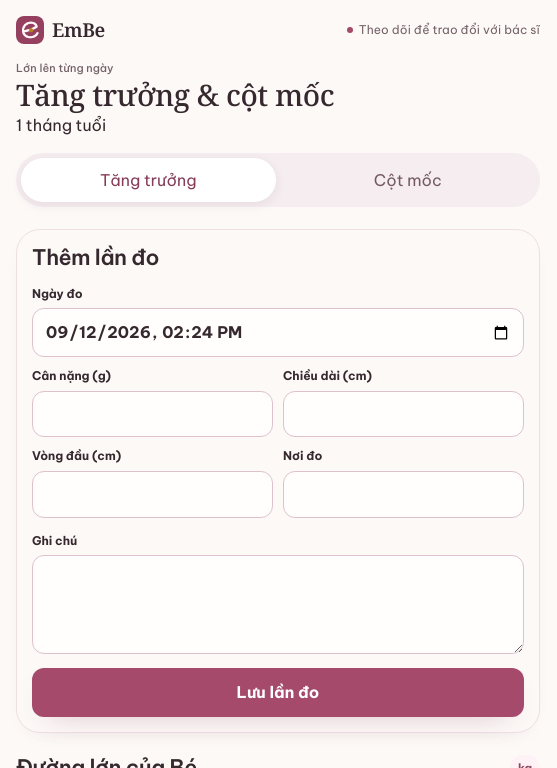
Test case: baby development page › keeps the entered measurement when saving fails
Check: the button "Lưu lần đo" is enabled, box x1=32 y1=668 x2=524 y2=717
Type "3500" into the number field labelled "Cân nặng (g)".
click(152, 414); type("3500")  # box x1=32 y1=391 x2=273 y2=437
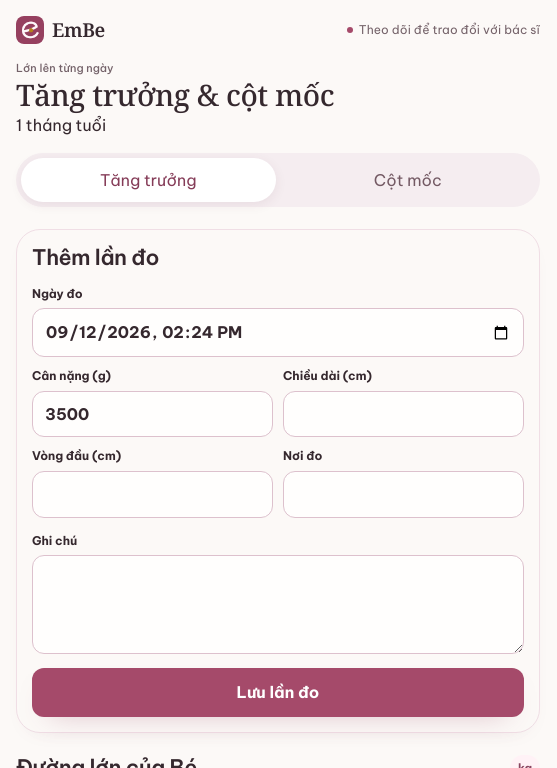
Click the button "Lưu lần đo".
click(278, 693)  # box x1=32 y1=668 x2=524 y2=717
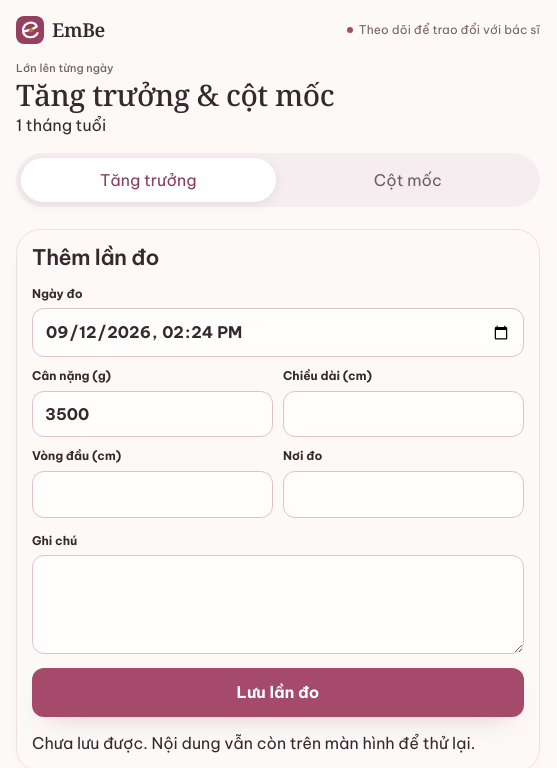
Check: the message shows "Chưa lưu được", box x1=32 y1=733 x2=475 y2=753
